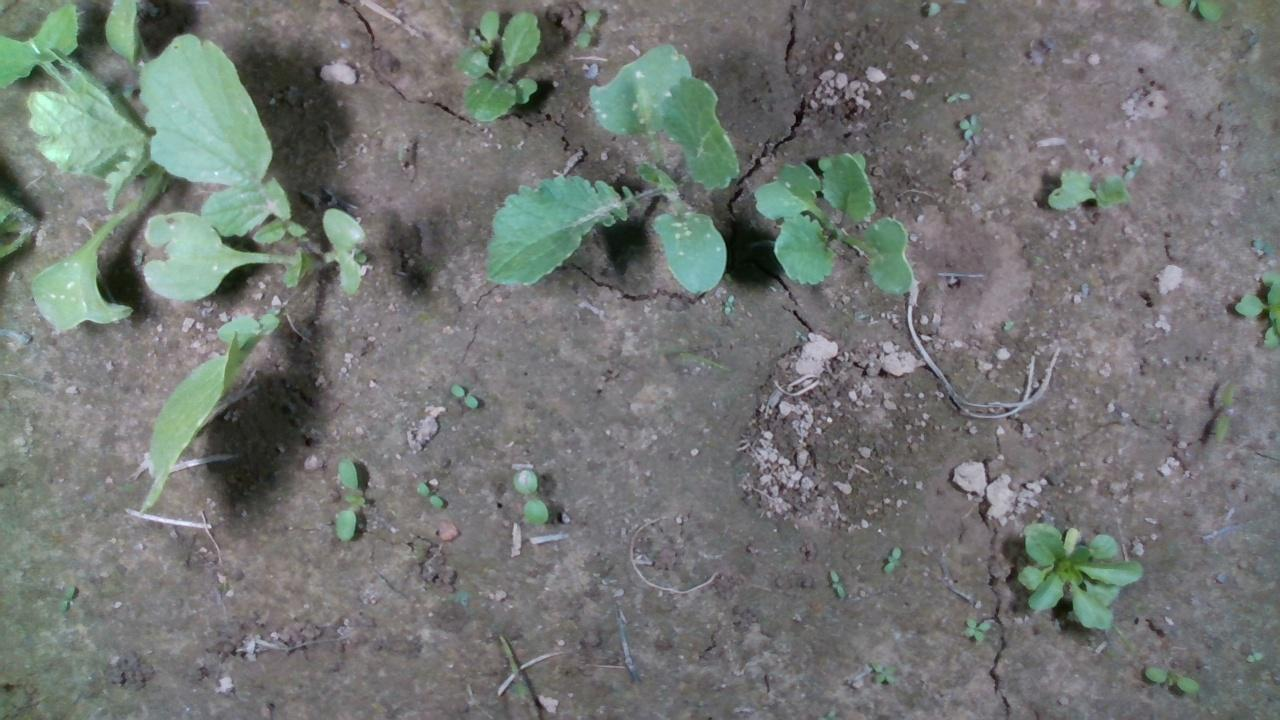weed: (331, 454, 366, 541), (509, 467, 552, 526), (1139, 663, 1202, 694), (1209, 379, 1237, 445), (572, 5, 605, 50), (412, 478, 446, 509), (957, 614, 990, 643), (444, 383, 480, 408), (954, 110, 981, 141), (825, 565, 848, 601), (878, 544, 904, 575), (869, 659, 897, 684), (1120, 152, 1143, 182), (1244, 649, 1265, 662)
